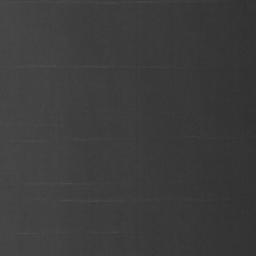Waist folding: (47, 0, 210, 6), (0, 64, 159, 70), (37, 198, 107, 204), (30, 137, 87, 143), (0, 231, 29, 235), (62, 181, 72, 186)
